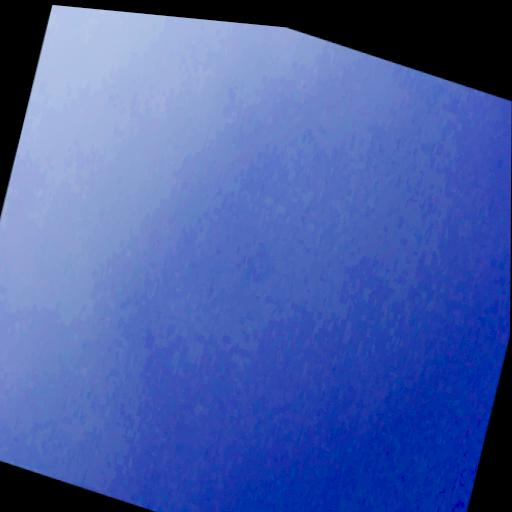drones: (277, 349, 282, 357)
